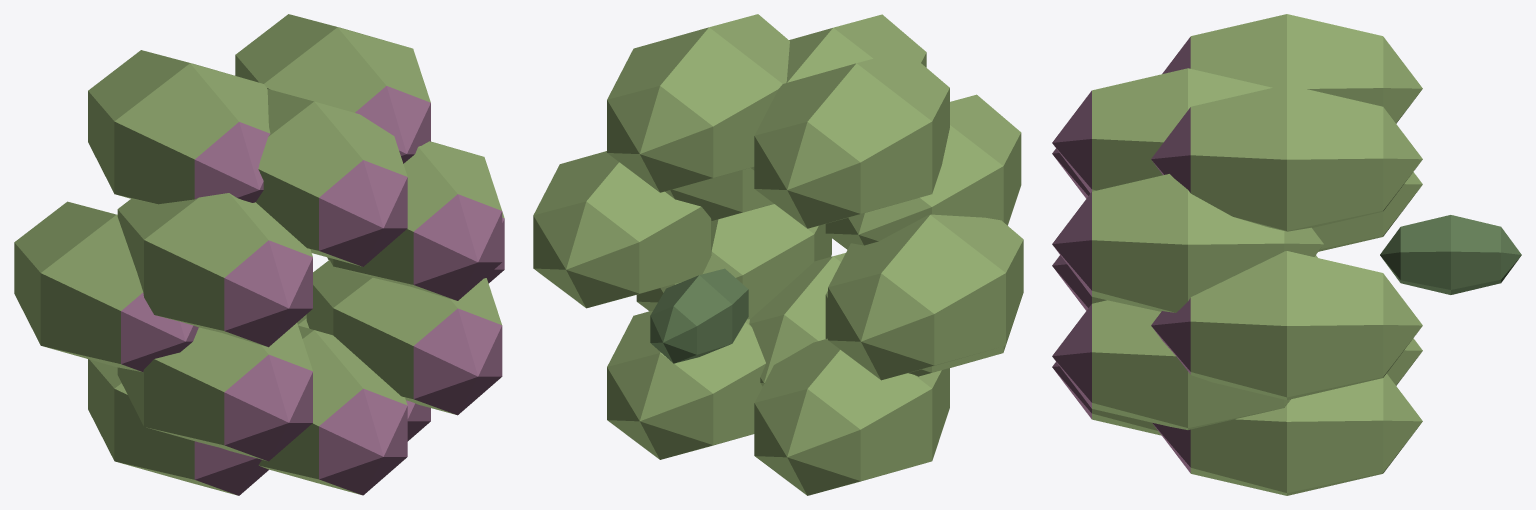
File: artichoke.glb
3 renders of one model, left to right at view 1: azimuth 30°, elevation 25°; view 2: azimuth 150°, elevation 25°; view 3: azimuth 270°, elevation 25°, orthographic.
Parts seen in each view (by area): view 1: artichoke; view 2: artichoke; view 3: artichoke.
Boxes of the visible parts, <box> form: artichoke: <box>14,14,504,495</box>; artichoke: <box>533,14,1023,495</box>; artichoke: <box>1052,14,1521,495</box>.
Size of the model in its own units: 0.0817 by 0.0734 by 0.076.
